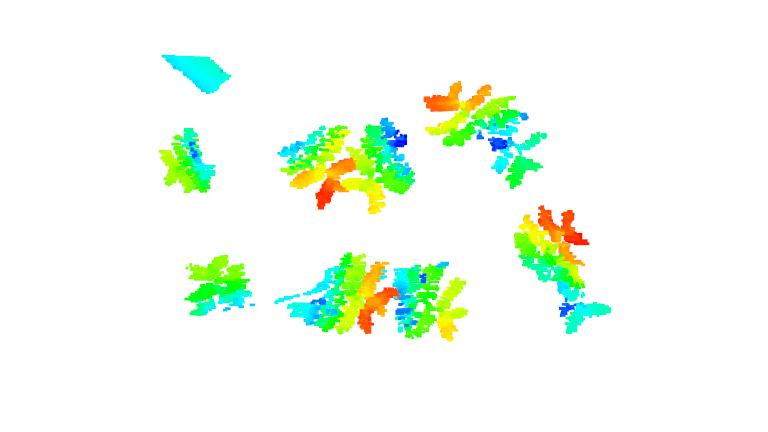chickpea: (514, 203, 616, 335), (424, 83, 546, 183), (278, 247, 391, 338), (343, 115, 412, 216), (276, 120, 354, 208), (391, 259, 469, 344), (181, 256, 257, 320), (163, 127, 217, 197)
